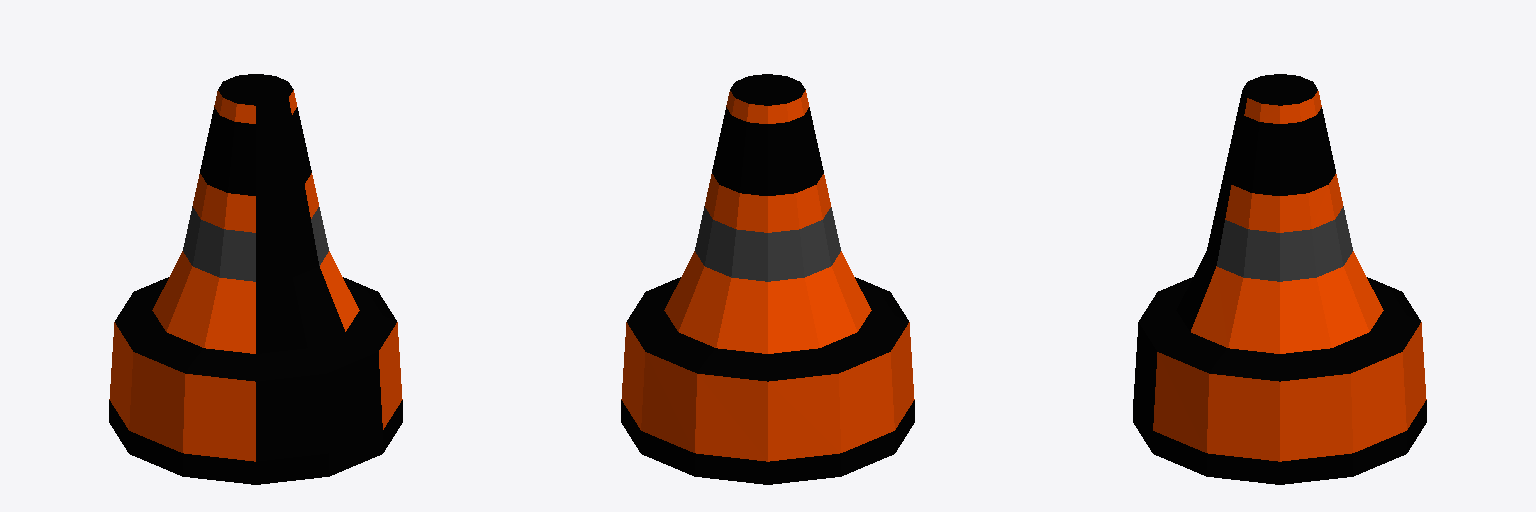
Rendered from frf.obj.
The picture shows the model from 3 angles: view 1: azimuth 30°, elevation 25°; view 2: azimuth 150°, elevation 25°; view 3: azimuth 270°, elevation 25°; orthographic projection.
Parts seen in each view (by area): view 1: Capsule001; view 2: Capsule001; view 3: Capsule001.
Boxes of the visible parts, box(x1,y1,x2,y2) form: Capsule001: box(109, 74, 402, 484); Capsule001: box(621, 74, 914, 484); Capsule001: box(1133, 74, 1426, 484).
Size of the model in its own units: 1.33 by 1.68 by 1.33.